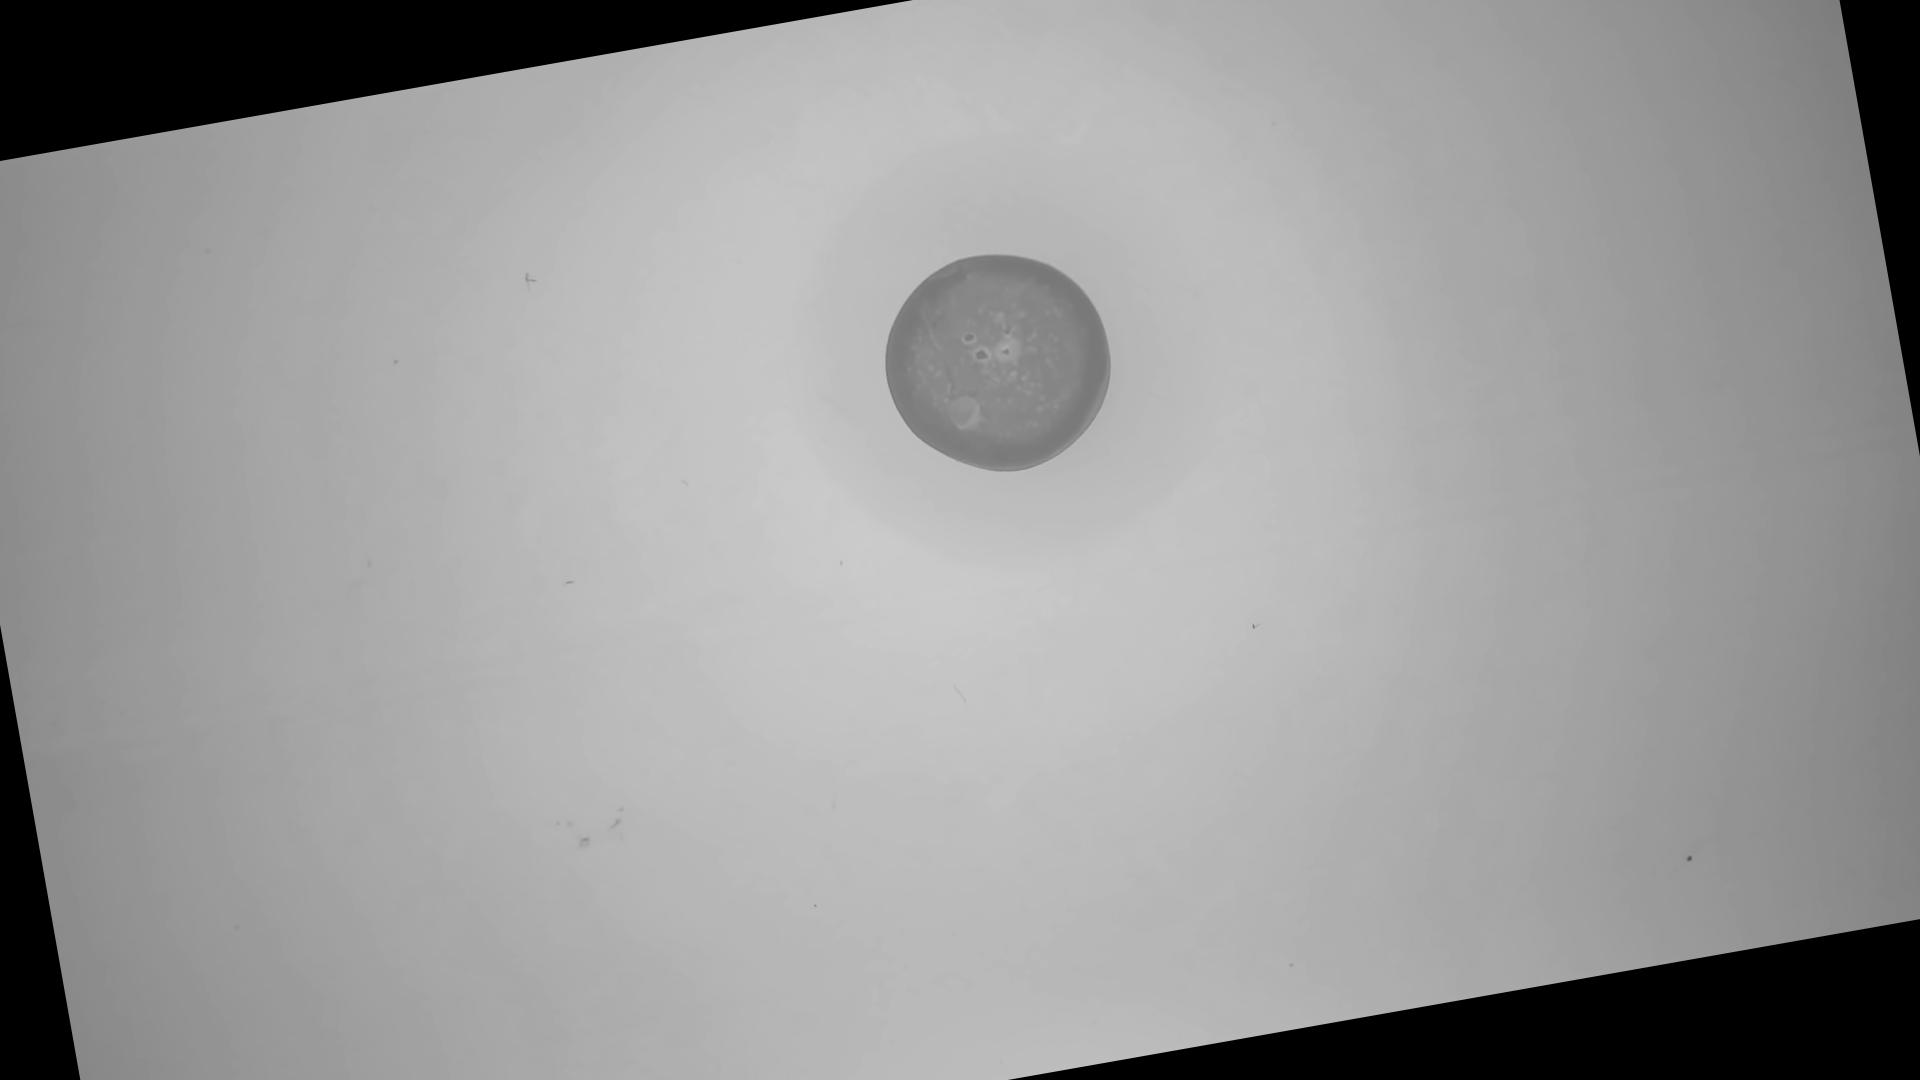abnormal: (864, 231, 1131, 495)
